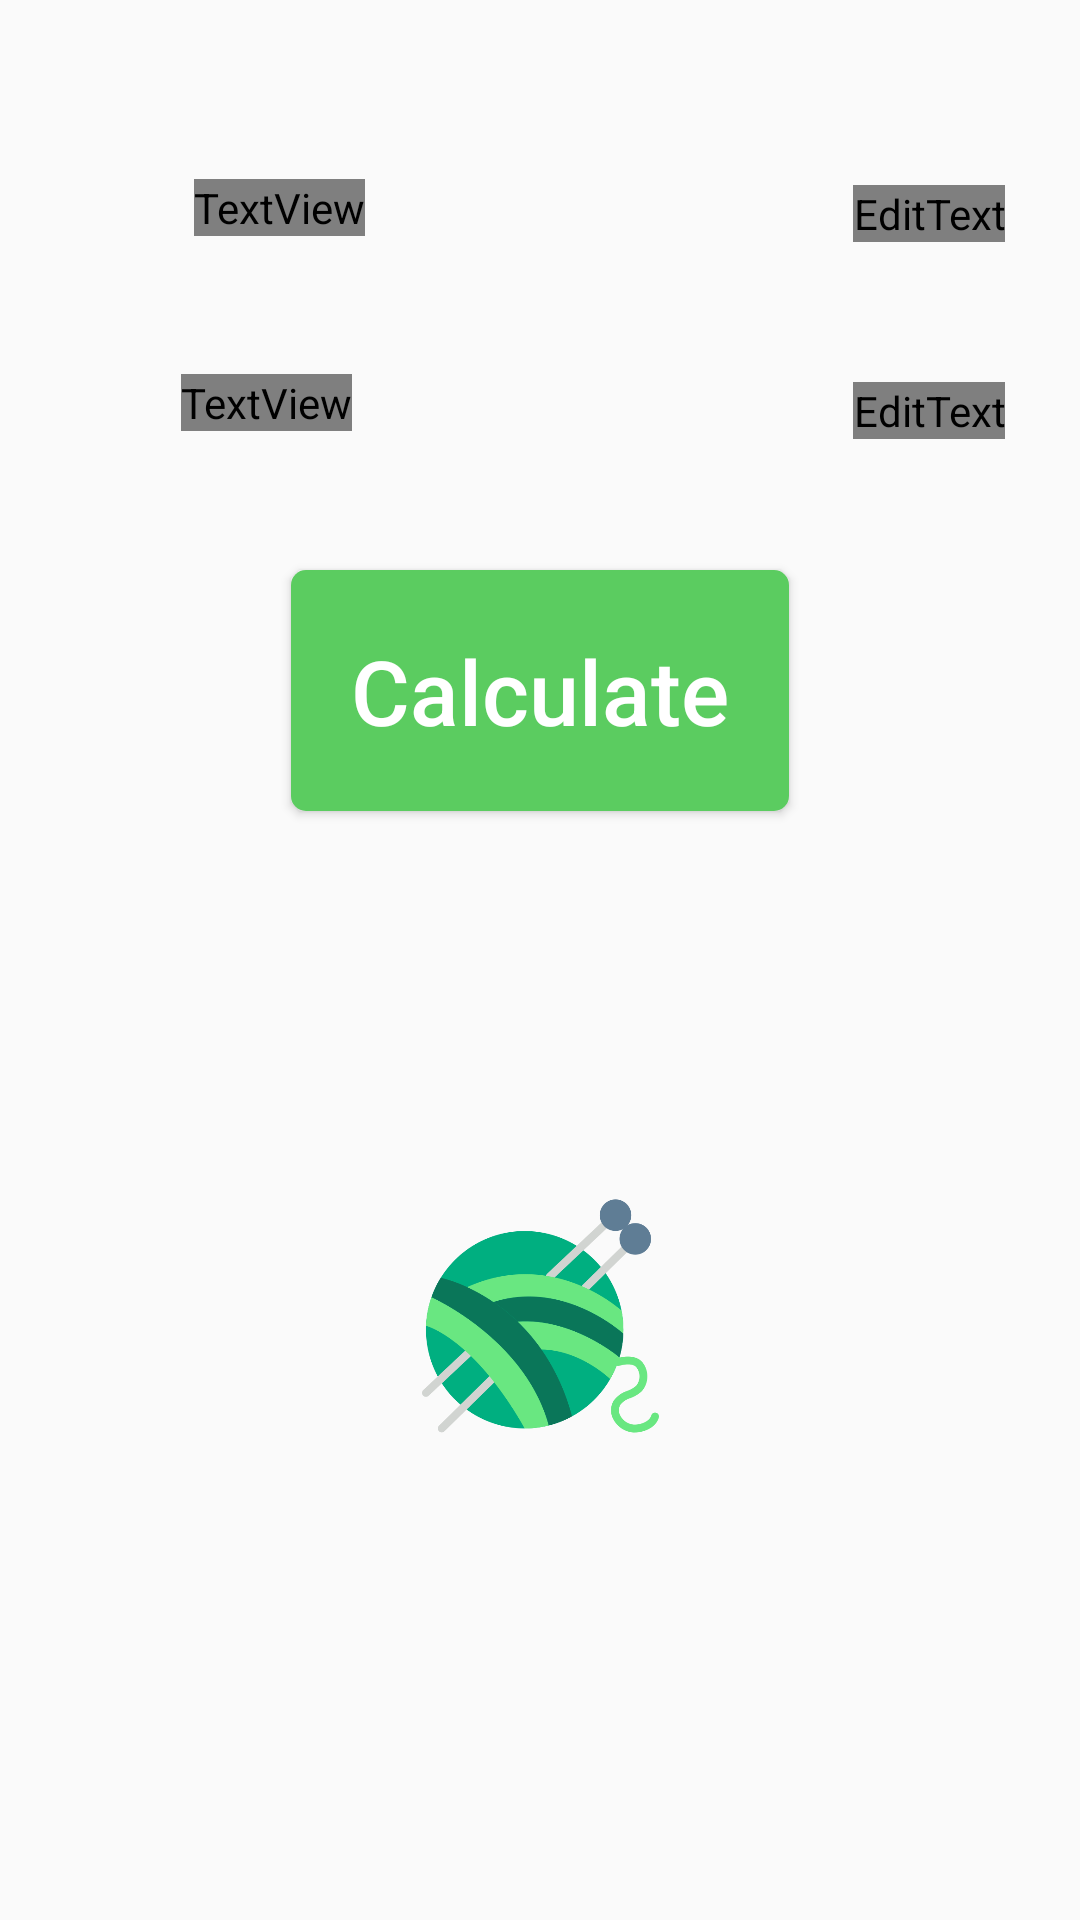

Where to tap for icons on this 1080*1920 app screen, as point (x, y):
yarn: point (540, 1316)
